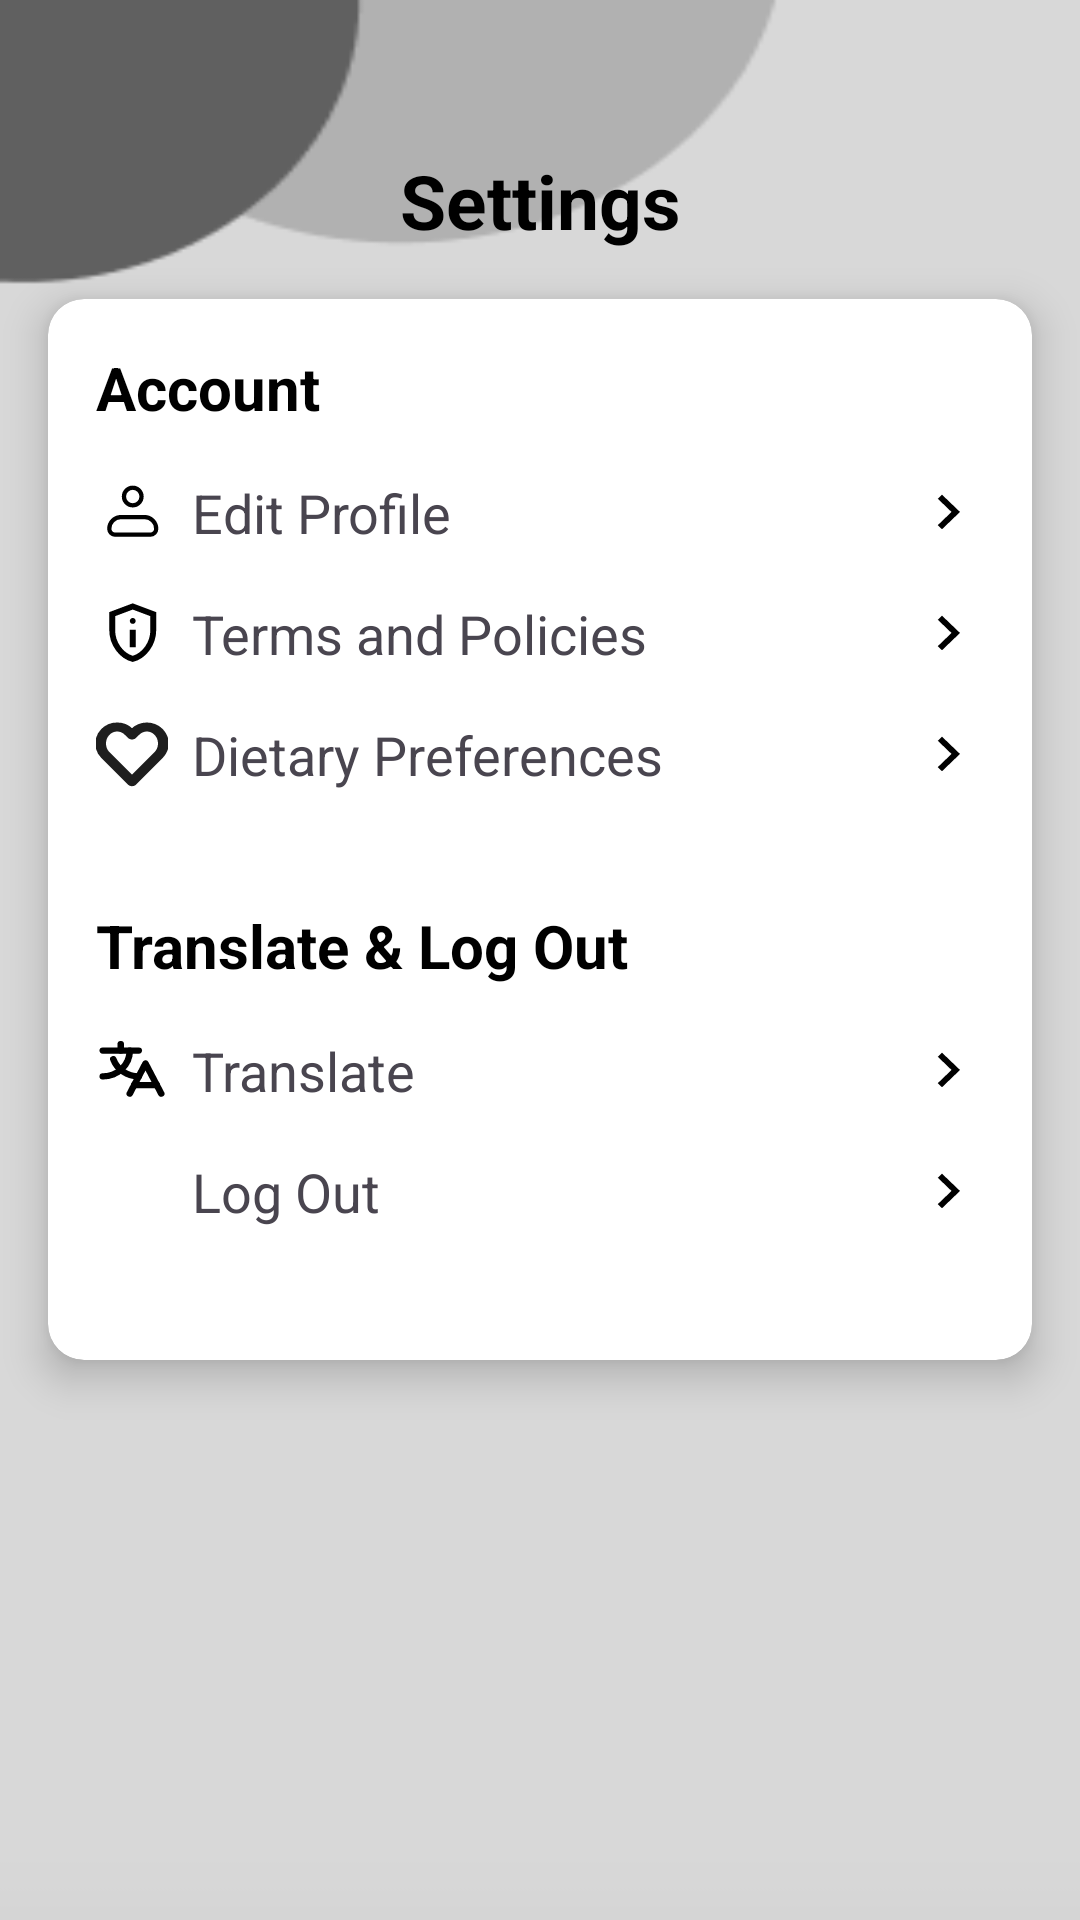

Named icons in this screenshot (1080px×1920px) and their bounding boxes, (x1, y1, x2, y2):
heart: (96, 722, 168, 787)
iconamoon profilelight: (107, 485, 159, 537)
symbols privacy tip: (109, 603, 157, 662)
